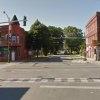crosswalk: (0, 77, 99, 83)
